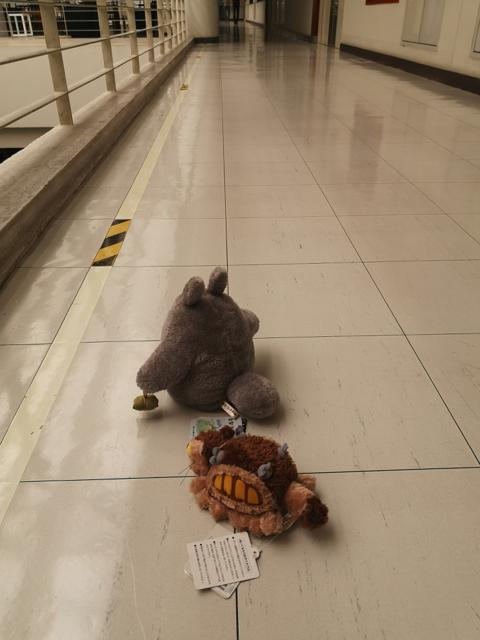nekobus: (182, 423, 333, 544)
totoro: (128, 266, 290, 426)
